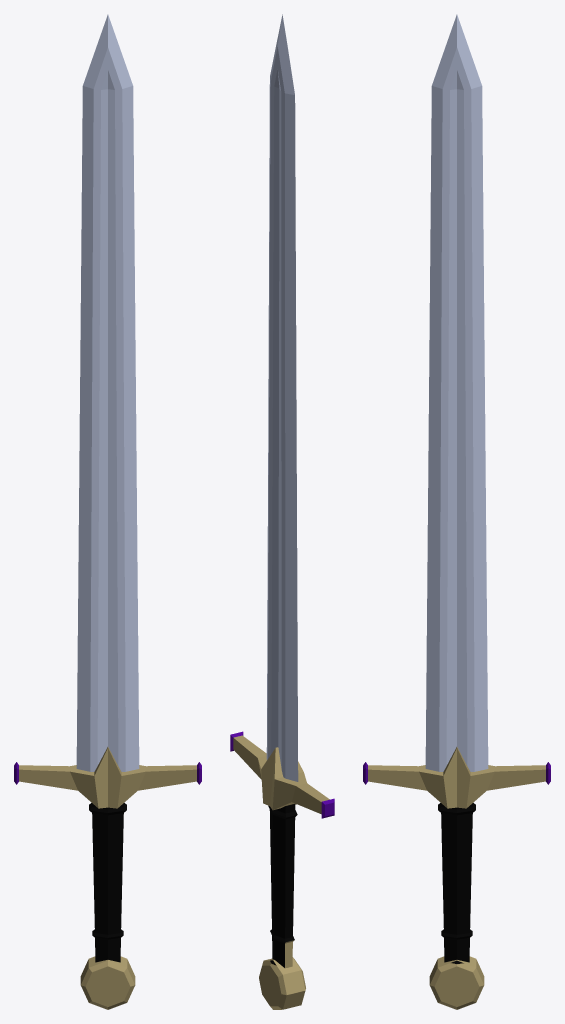
File: Espada_heroe.fbx
The picture shows the model from 3 angles, left to right: view 1: azimuth 90°, elevation 25°; view 2: azimuth 210°, elevation 25°; view 3: azimuth 270°, elevation 25°; orthographic projection.
Parts seen in each view (by area): view 1: Cylinder.018; view 2: Cylinder.018; view 3: Cylinder.018.
Part boxes in pixels (left/top/right/bottom): Cylinder.018: left=14, top=14, right=201, bottom=1009; Cylinder.018: left=230, top=14, right=334, bottom=1009; Cylinder.018: left=363, top=14, right=550, bottom=1009.
Size of the model in its own units: 1.67 by 54.38 by 9.34.
